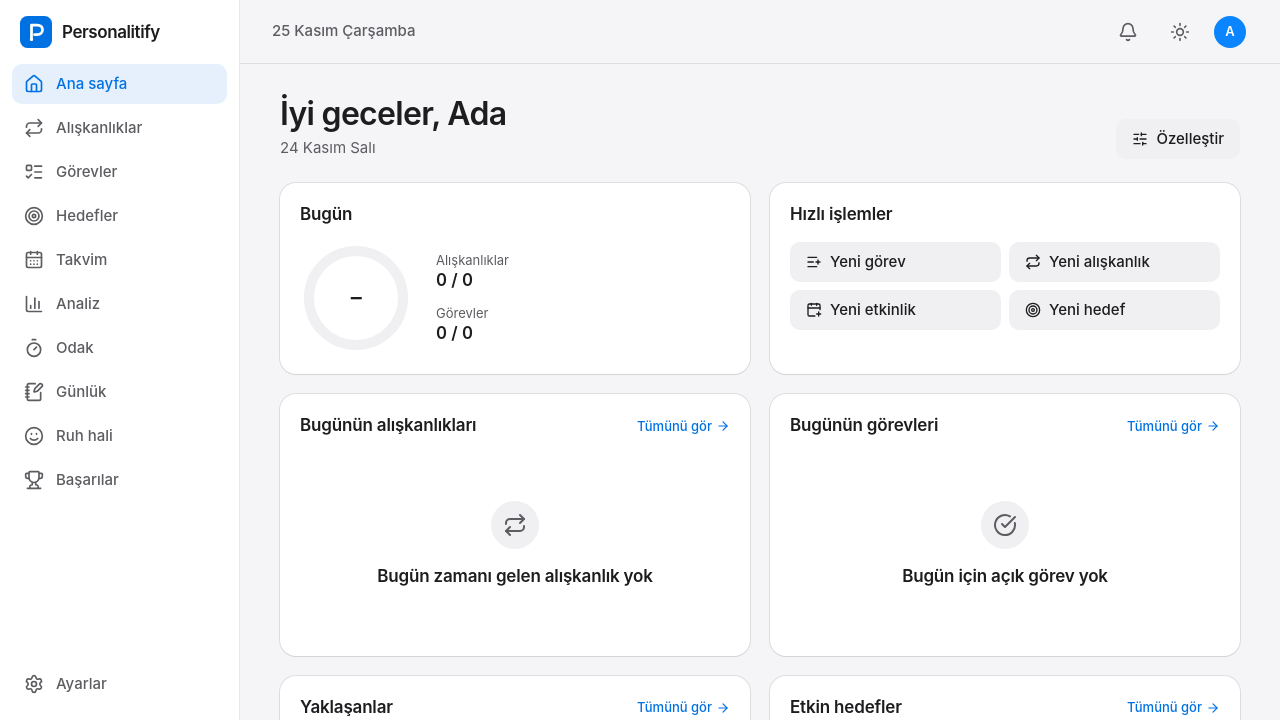
a returning user › signs out from the account menu
Check: the heading "İyi geceler, Ada" is shown, box [280,96,506,133]
Step 1. Click the button named "Hesap menüsü" → (1230, 32), box [1212,14,1248,50]
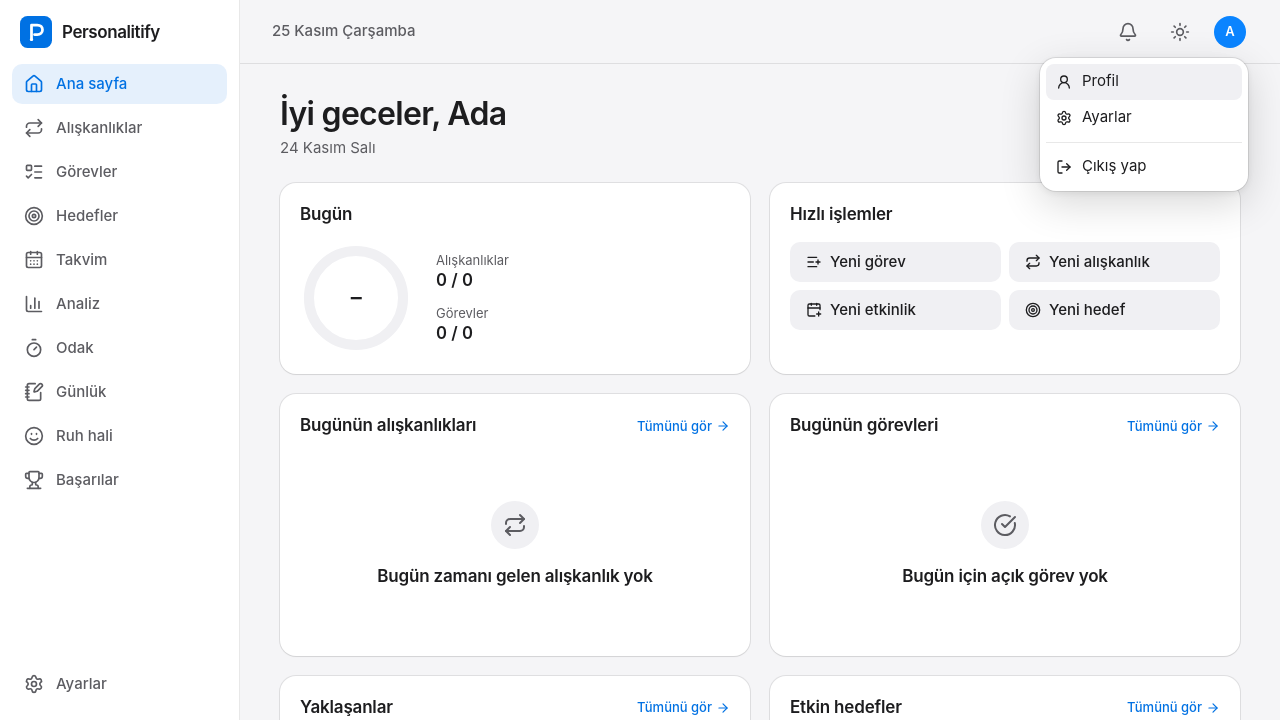
Step 2. Click the menu item "Çıkış yap" → (1144, 166), box [1046,148,1242,184]
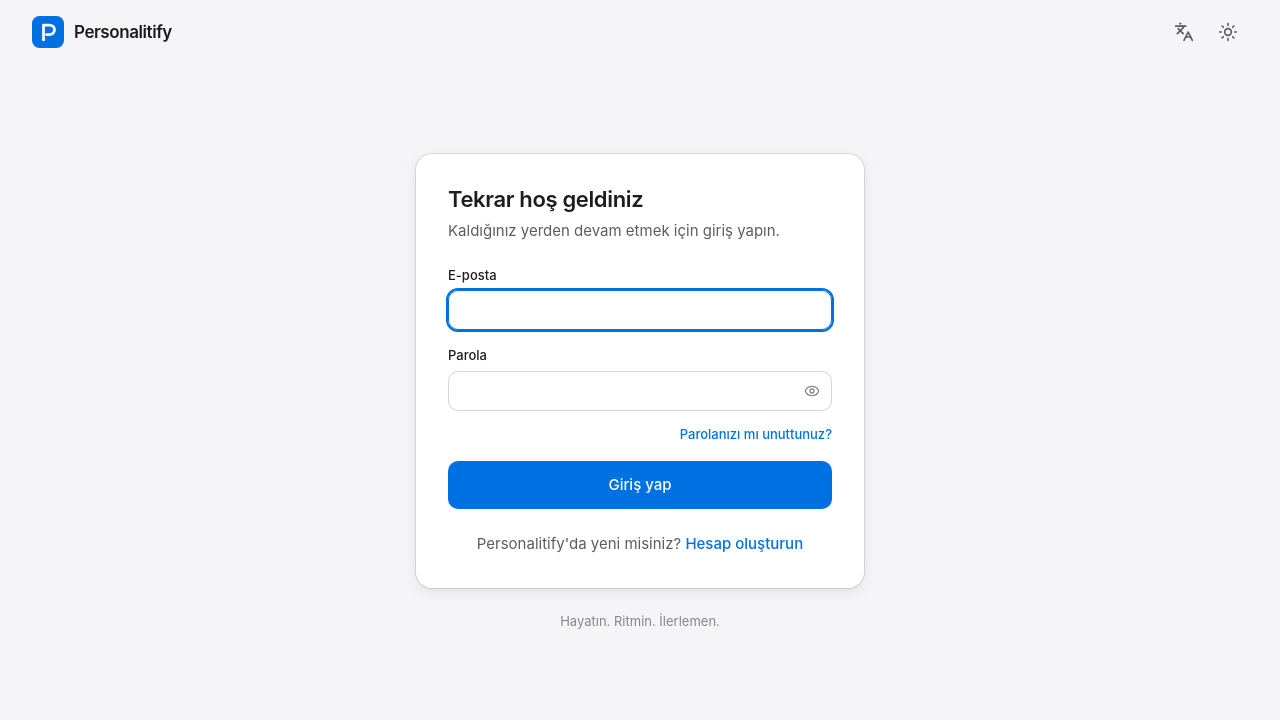
Check: the heading "Tekrar hoş geldiniz" is shown, box [448,186,643,212]
